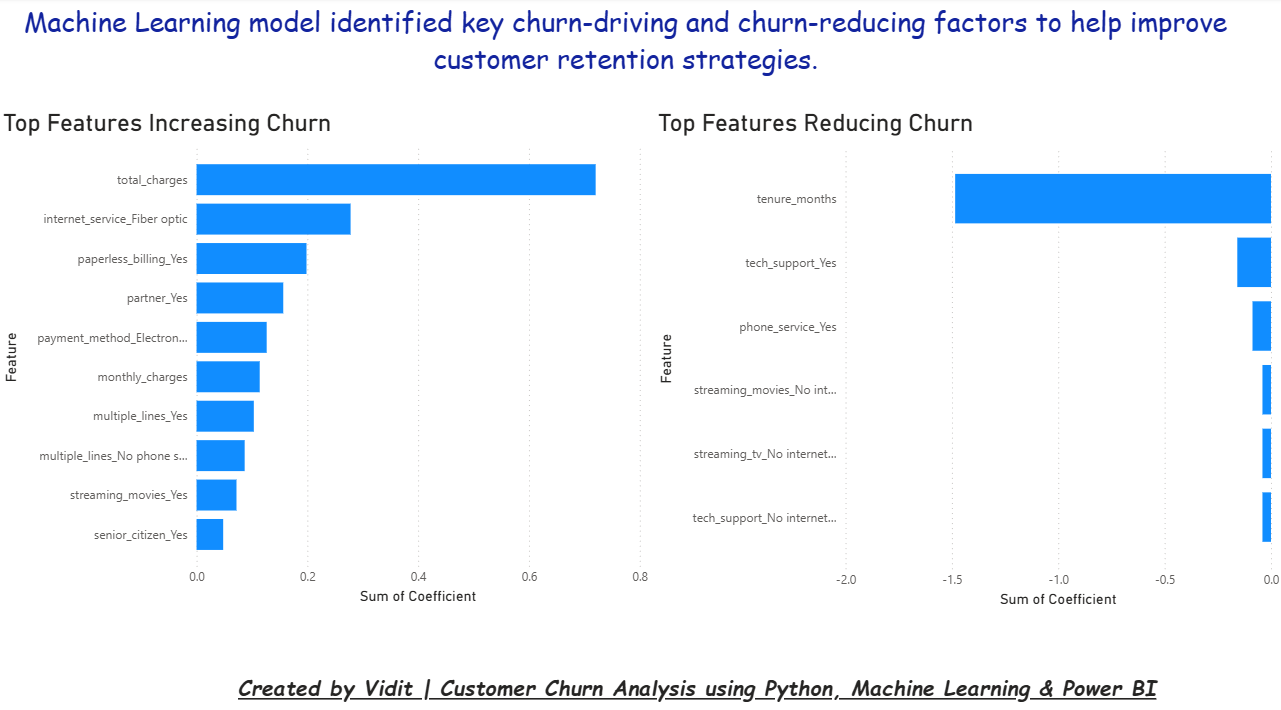

The dashboard page shown, as its layout file describes it:
{"tool":"powerbi","page":{"name":"ML INSIGHTS & Retention Factors","canvas":[1280,720],"ordinal":3},"visuals":[{"type":"clusteredBarChart","title":"Top Features Increasing Churn","fields":{"Category":["feature_importance.Feature"],"Y":["Sum(feature_importance.Coefficient)"]},"box":[0,110.7,651.8,498.8],"z":0},{"type":"clusteredBarChart","title":"Top Features Reducing Churn","fields":{"Category":["feature_importance.Feature"],"Y":["Sum(feature_importance.Coefficient)"]},"box":[651.8,110.7,628.2,501.3],"z":1},{"type":"textbox","box":[0,0,1248.9,102],"z":2},{"type":"textbox","box":[233.9,668,954.1,52.2],"z":3}]}

Visuals, with their boxes in screenshot pixels (x1, y1, x2, y2), scaled from the page's 1280x720 canvas onto the 1281x710 screenshot:
"Top Features Increasing Churn" clusteredBarChart: 0:109:652:601
"Top Features Reducing Churn" clusteredBarChart: 652:109:1280:604
textbox: 0:0:1250:101
textbox: 234:659:1189:709
